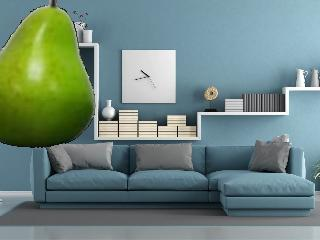pear: (0, 0, 94, 147)
